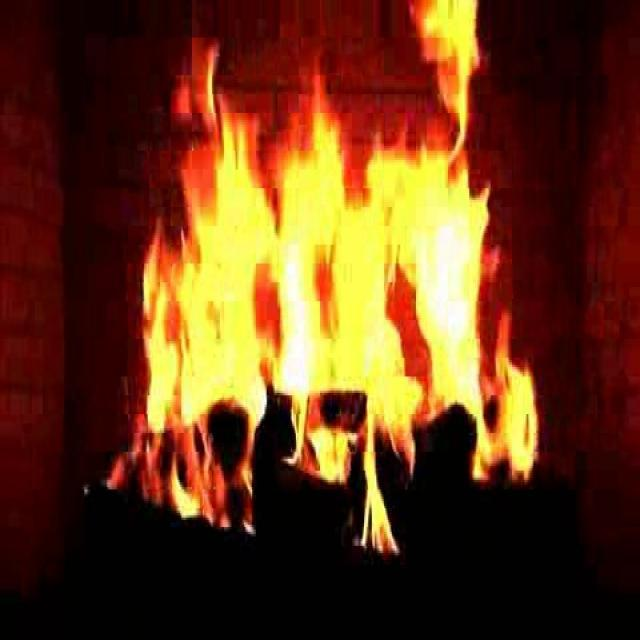Fire: (127, 28, 509, 540)
